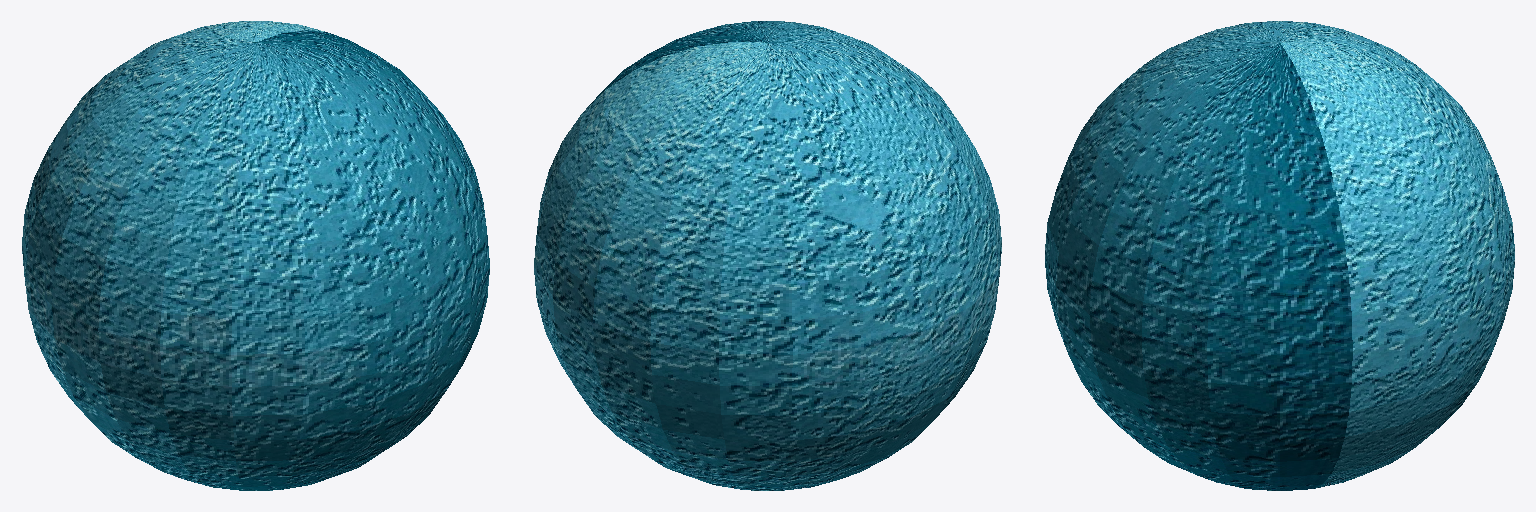
The picture shows the model from 3 angles: view 1: azimuth 30°, elevation 25°; view 2: azimuth 150°, elevation 25°; view 3: azimuth 270°, elevation 25°; orthographic projection.
Size of the model in its own units: 25.14 by 25.14 by 25.14.
Materials: 1 (1 with a texture image).